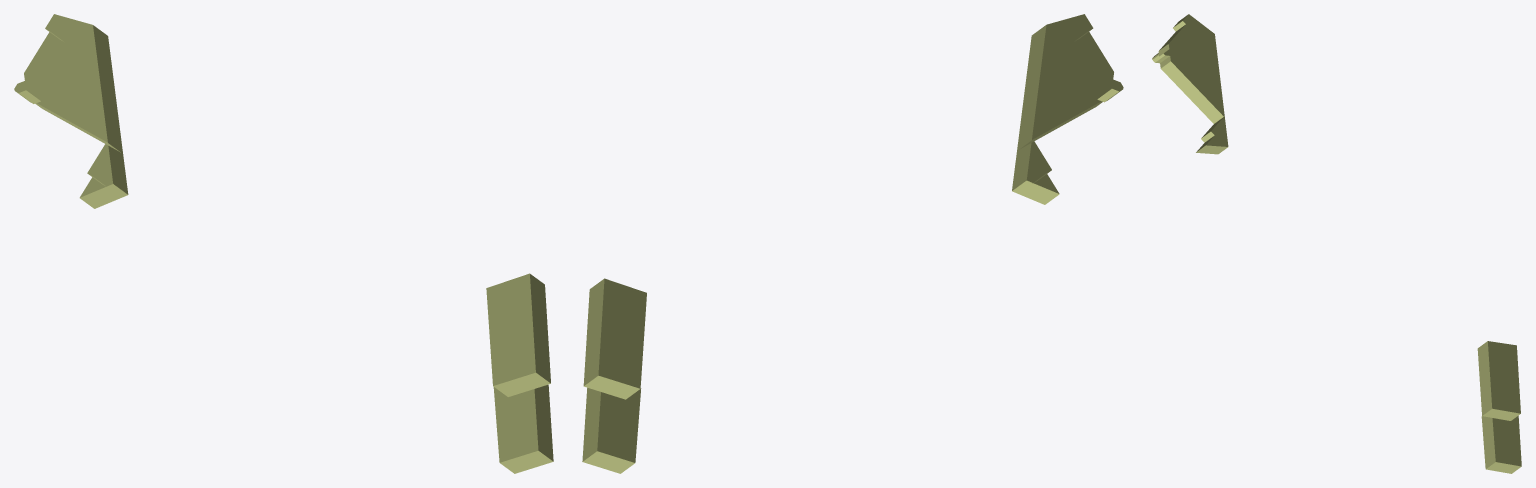
The picture shows the model from 3 angles, left to right: view 1: azimuth 30°, elevation 25°; view 2: azimuth 150°, elevation 25°; view 3: azimuth 330°, elevation 25°; orthographic projection. The views are drawn at different scales.
Parts seen in each view (by area): view 1: 0_1_0_0_2_2_0; view 2: 0_1_0_0_2_2_0; view 3: 0_1_0_0_2_2_0.
Part boxes in pixels (bbox=[...]): 0_1_0_0_2_2_0: bbox=[14, 14, 553, 473]; 0_1_0_0_2_2_0: bbox=[582, 14, 1123, 473]; 0_1_0_0_2_2_0: bbox=[1152, 14, 1521, 473].
Bounding box in the file's own units: 121 × 123 × 8.85.
